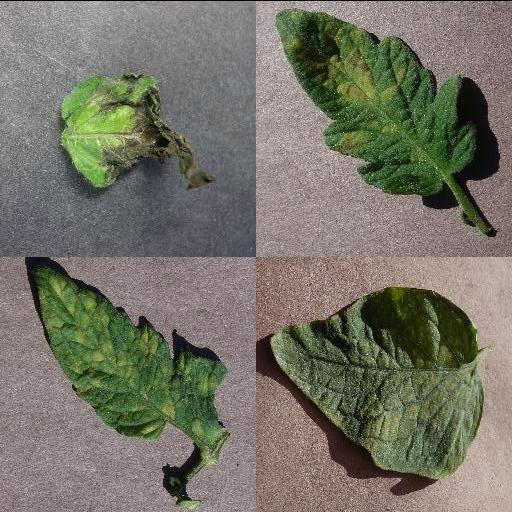Late Blight: (59, 69, 219, 189)
Leaf Mold: (30, 266, 230, 457), (275, 7, 477, 195)
Spider Mites: (268, 284, 486, 476)
